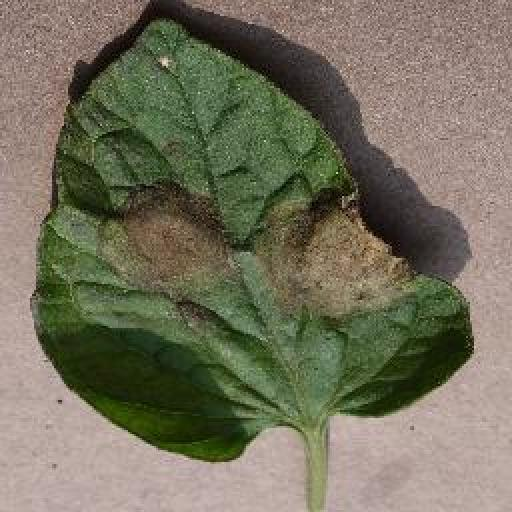Late Blight: (33, 16, 476, 465)
